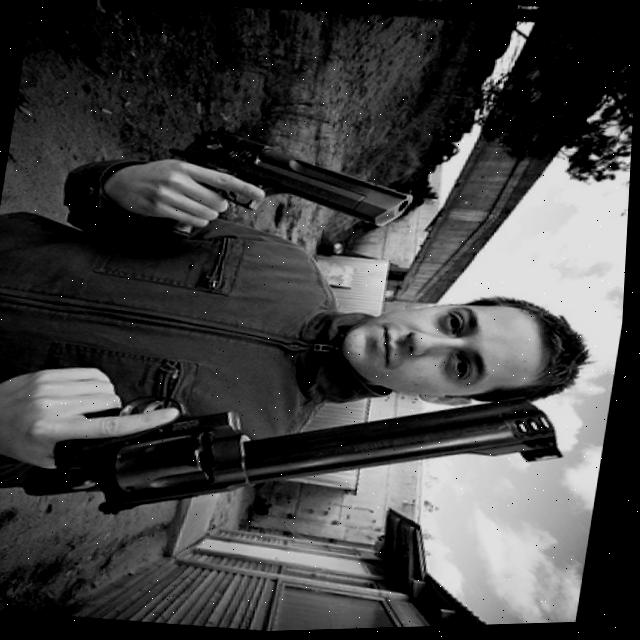pistol: (44, 349, 584, 564), (158, 117, 425, 237)
